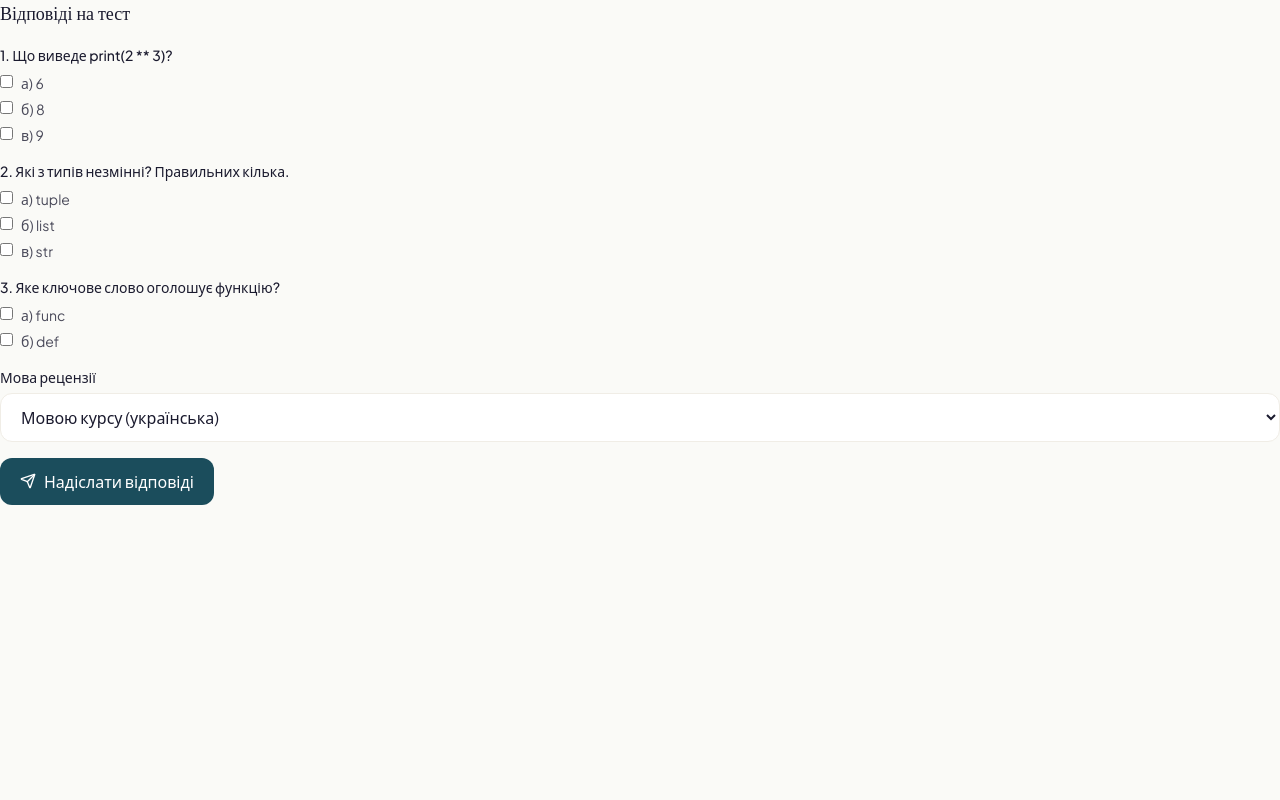
PortalTestForm — підтвердження для питань без позначки › going back leaves the student in the form, with the ticks and nothing sent
This screenshot has width=1280, height=800.
Click the checkbox labelled "б) 8" at (6, 107), box [0,101,13,114]
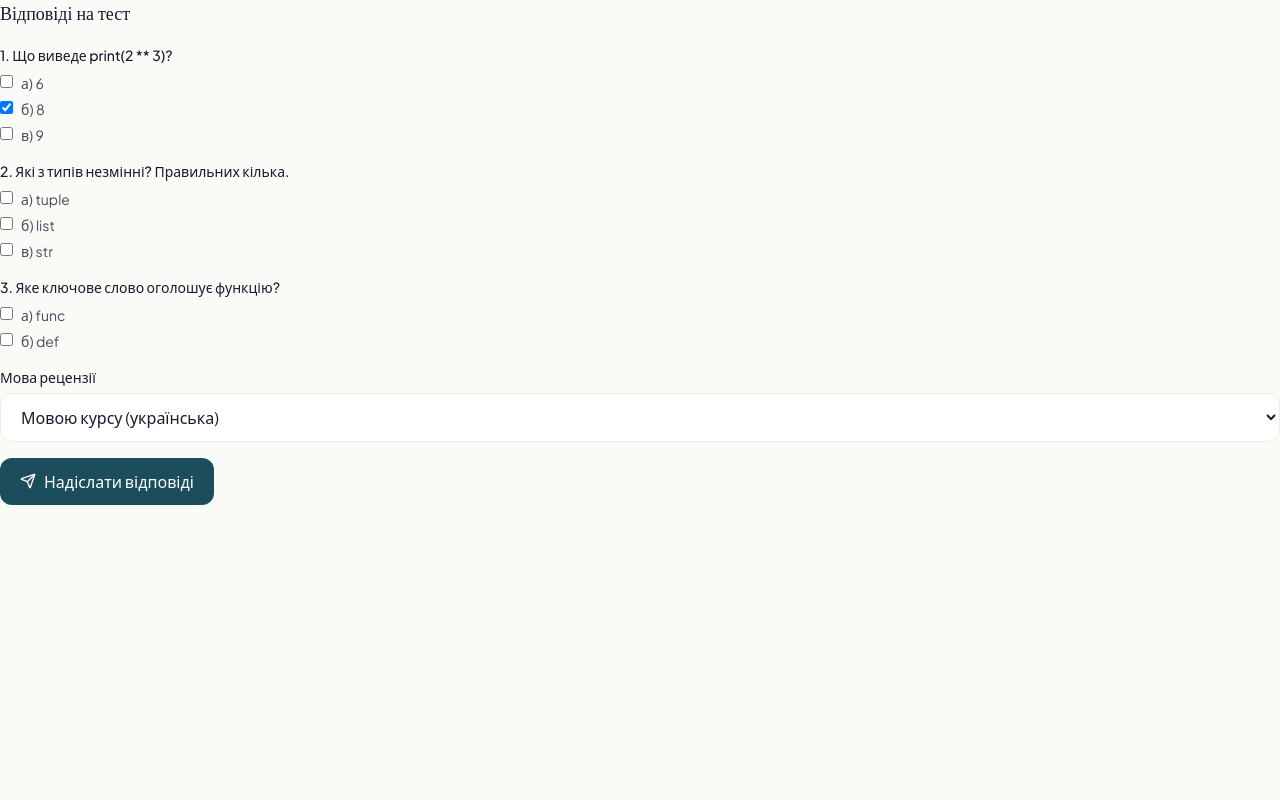
Click the button "Надіслати відповіді" at (107, 481), box [0,458,214,505]
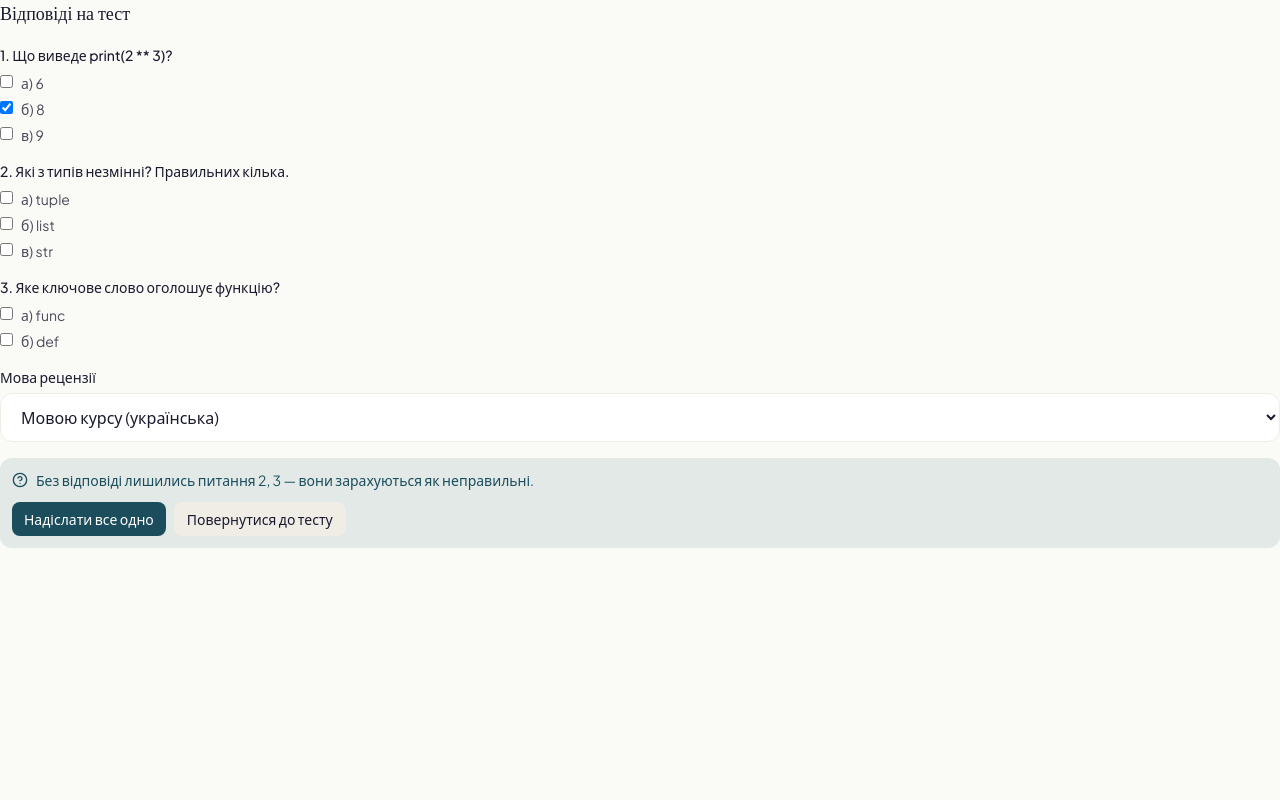
Click the button "Повернутися до тесту" at (260, 519), box [174,502,346,536]
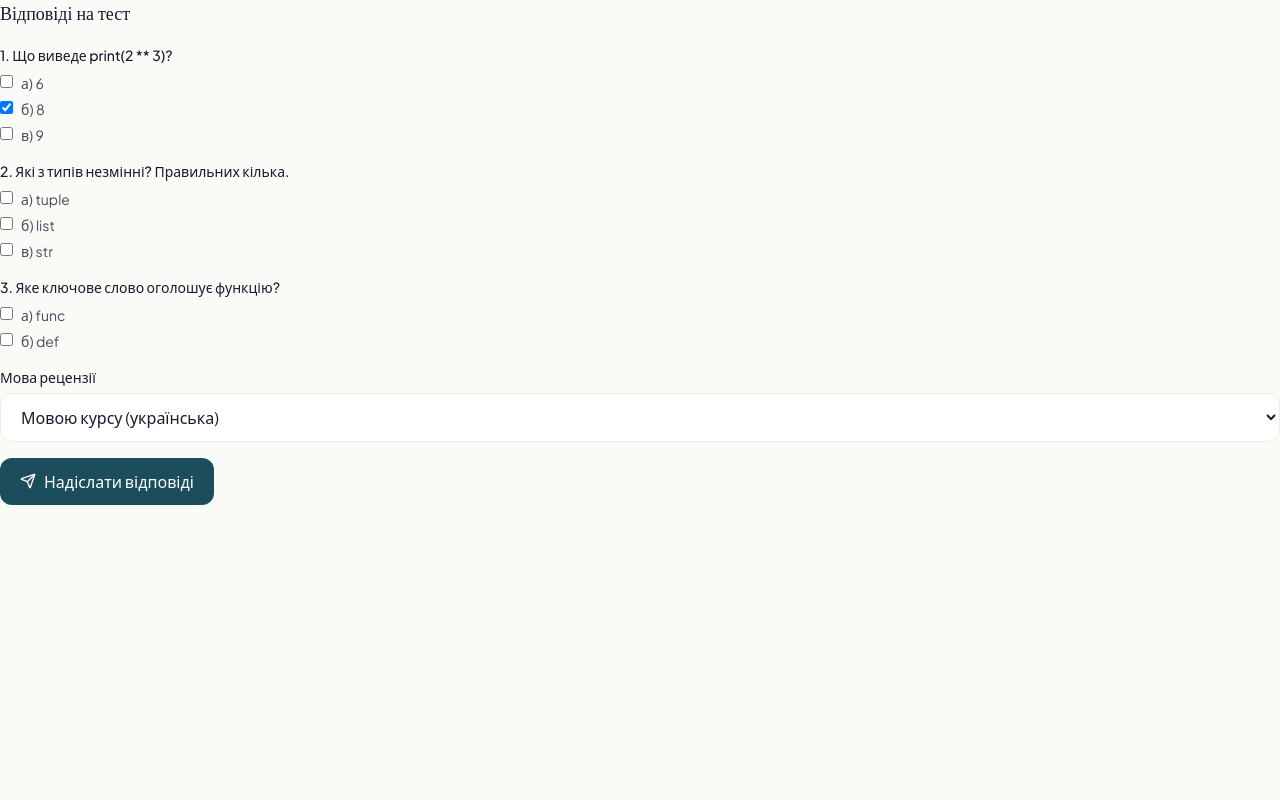
Expected: the button "Надіслати відповіді" is enabled, [0,458,214,505]
Now the checkbox labelled "б) 8" is checked, box [0,101,13,114]
Now the dialog is gone
